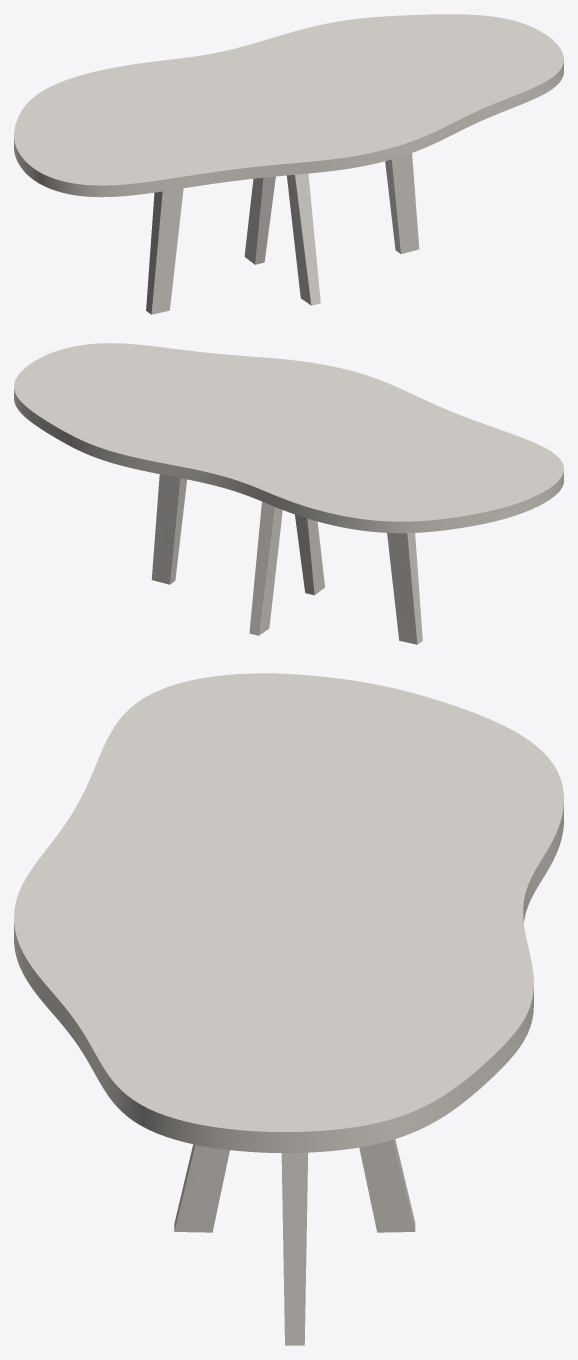
The model's file is pearlwhite_toplast_standard_searwalnut.glb.
3 renders of one model, top to bottom at view 1: azimuth 30°, elevation 25°; view 2: azimuth 150°, elevation 25°; view 3: azimuth 270°, elevation 25°, orthographic. The views are drawn at different scales.
Parts seen in each view (by area): view 1: standard_toplast, searwalnut; view 2: standard_toplast, searwalnut; view 3: standard_toplast, searwalnut.
Part boxes in pixels (<box>): standard_toplast: <box>14,14,563,197</box>; searwalnut: <box>146,153,419,314</box>; standard_toplast: <box>14,343,563,533</box>; searwalnut: <box>151,474,422,644</box>; standard_toplast: <box>14,673,563,1152</box>; searwalnut: <box>174,1139,415,1345</box>.
Bounding box in the file's own units: 7.5 × 2.5 × 3.8.
1 material, 1 textured.
